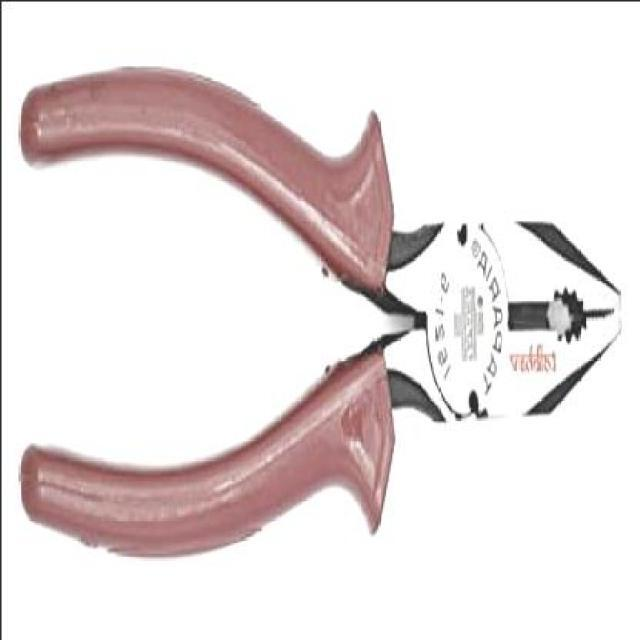pliers: (20, 59, 622, 558)
